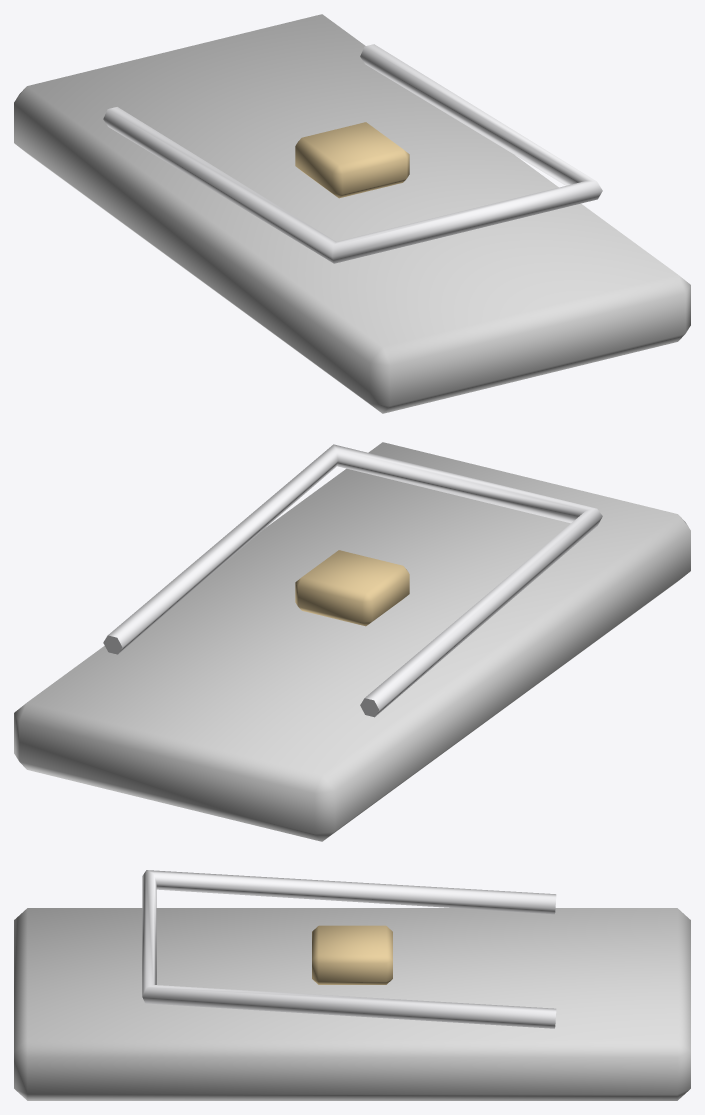
The model's file is mousetrap.glb.
3 views of the same model, one above another, from view 1: azimuth 30°, elevation 25°; view 2: azimuth 150°, elevation 25°; view 3: azimuth 270°, elevation 25° (orthographic). The views are drawn at different scales.
Parts seen in each view (by area): view 1: mousetrap_base, mousetrap_bar, mousetrap_bait; view 2: mousetrap_base, mousetrap_bar, mousetrap_bait; view 3: mousetrap_base, mousetrap_bar, mousetrap_bait.
Boxes of the visible parts, box(x1,y1,x2,y2) form: mousetrap_base: box(14, 14, 690, 413); mousetrap_bar: box(103, 44, 602, 263); mousetrap_bait: box(295, 122, 409, 198); mousetrap_base: box(14, 442, 690, 841); mousetrap_bar: box(103, 444, 602, 717); mousetrap_bait: box(295, 550, 409, 626); mousetrap_base: box(14, 908, 690, 1100); mousetrap_bar: box(142, 870, 556, 1028); mousetrap_bait: box(312, 925, 392, 984).
Size of the model in its own units: 0.05 by 0.0173 by 0.1.
